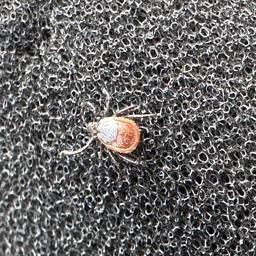Ixodes scapularis: (58, 88, 155, 166)
